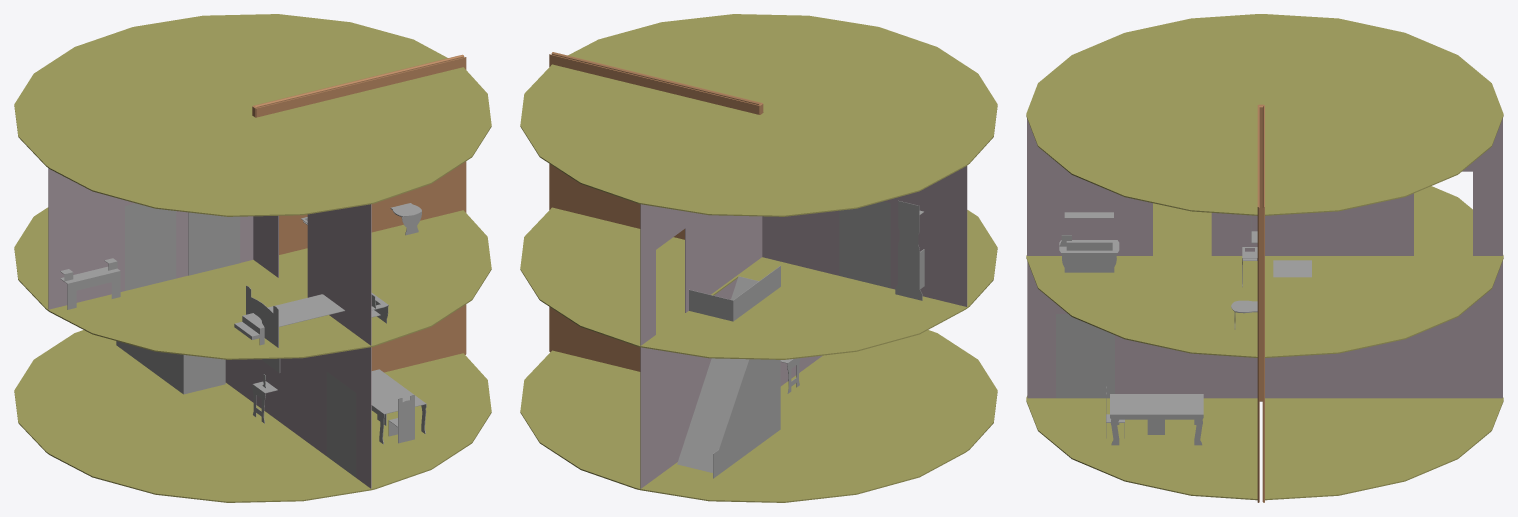
Rendered from Models_v01.fbx.
3 renders of one model, left to right at view 1: azimuth 30°, elevation 25°; view 2: azimuth 150°, elevation 25°; view 3: azimuth 270°, elevation 25°, orthographic.
Visible parts, largest first — view 1: Paper_roof, Paper_floor, Paper_floor2, Book_covers, Paper_wall_6_7, Paper_wall_bottom, Paper_wall_5_6, Door, StaisrBase, DoorSnake, Bed, DinningTable (+6 smaller); view 2: Paper_roof, Paper_floor, Paper_floor2, Paper_wall_6_7, Book_covers, Paper_wall_7_8, StaisrBase, Paper_wall_bottom, Door, Clock_base, StairsRail, StairsFence2 (+2 smaller); view 3: Paper_roof, Paper_floor2, Paper_floor, Paper_wall_bottom, Paper_wall_7_8, Paper_wall_5_6, DoorSnake, DinningTable, Book_covers, Bath_estructure, CellarDoor.
Boxes of the visible parts, box(x1,y1,x2,y2) form: Paper_roof: box(14, 14, 491, 216); Paper_floor: box(14, 330, 491, 502); Paper_floor2: box(14, 207, 491, 359); Book_covers: box(252, 54, 466, 372); Paper_wall_6_7: box(48, 168, 253, 309); Paper_wall_bottom: box(225, 347, 371, 488); Paper_wall_5_6: box(253, 204, 371, 345); Door: box(125, 203, 176, 290); StaisrBase: box(122, 343, 225, 394); DoorSnake: box(326, 372, 356, 477); Bed: box(246, 285, 344, 347); DinningTable: box(371, 369, 426, 444); Paper_roof: box(520, 14, 997, 216); Paper_floor: box(520, 330, 997, 502); Paper_floor2: box(520, 207, 997, 359); Paper_wall_6_7: box(762, 166, 967, 306); Book_covers: box(549, 52, 763, 371); Paper_wall_7_8: box(640, 204, 762, 345); StaisrBase: box(677, 276, 780, 474); Paper_wall_bottom: box(640, 278, 822, 488); Door: box(839, 201, 890, 288); Clock_base: box(895, 200, 924, 300); StairsRail: box(713, 359, 756, 478); StairsFence2: box(733, 265, 780, 320); Paper_roof: box(1026, 14, 1503, 215); Paper_floor2: box(1026, 186, 1503, 357); Paper_floor: box(1026, 396, 1503, 500); Paper_wall_bottom: box(1027, 261, 1502, 398); Paper_wall_7_8: box(1265, 118, 1502, 255); Paper_wall_5_6: box(1027, 118, 1257, 255); DoorSnake: box(1056, 314, 1114, 398); DinningTable: box(1110, 394, 1203, 445); Book_covers: box(1257, 104, 1264, 502); Bath_estructure: box(1059, 235, 1119, 272); CellarDoor: box(1273, 260, 1311, 277).
Size of the model in its own units: 1204 by 820 by 1200.
